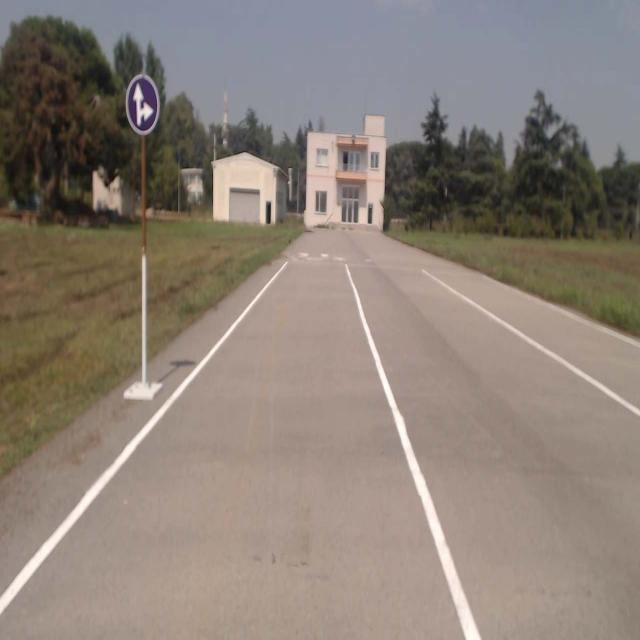ilerisag: (126, 74, 160, 135)
